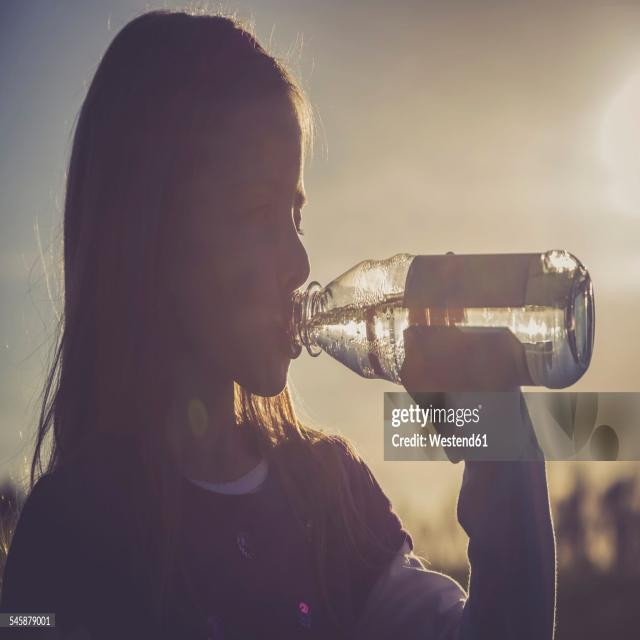bottle: (289, 246, 596, 392)
